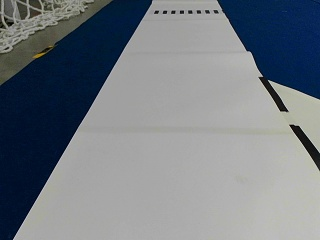crosswalk: (155, 9, 218, 14)
